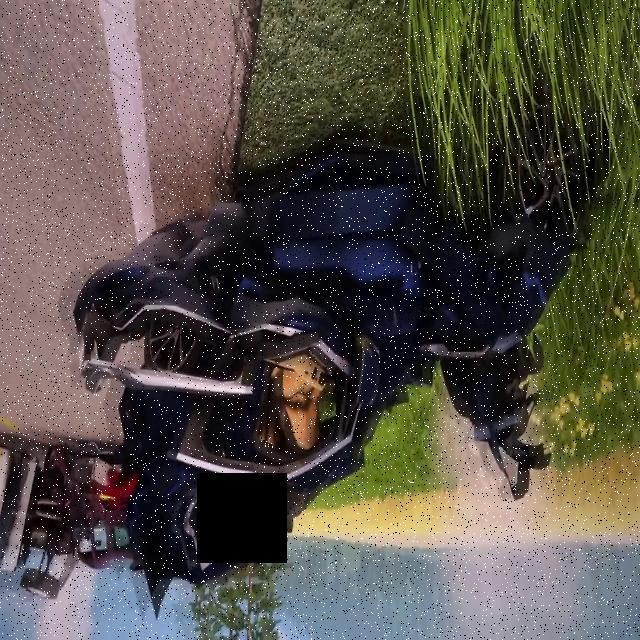person: (77, 75, 584, 582)
